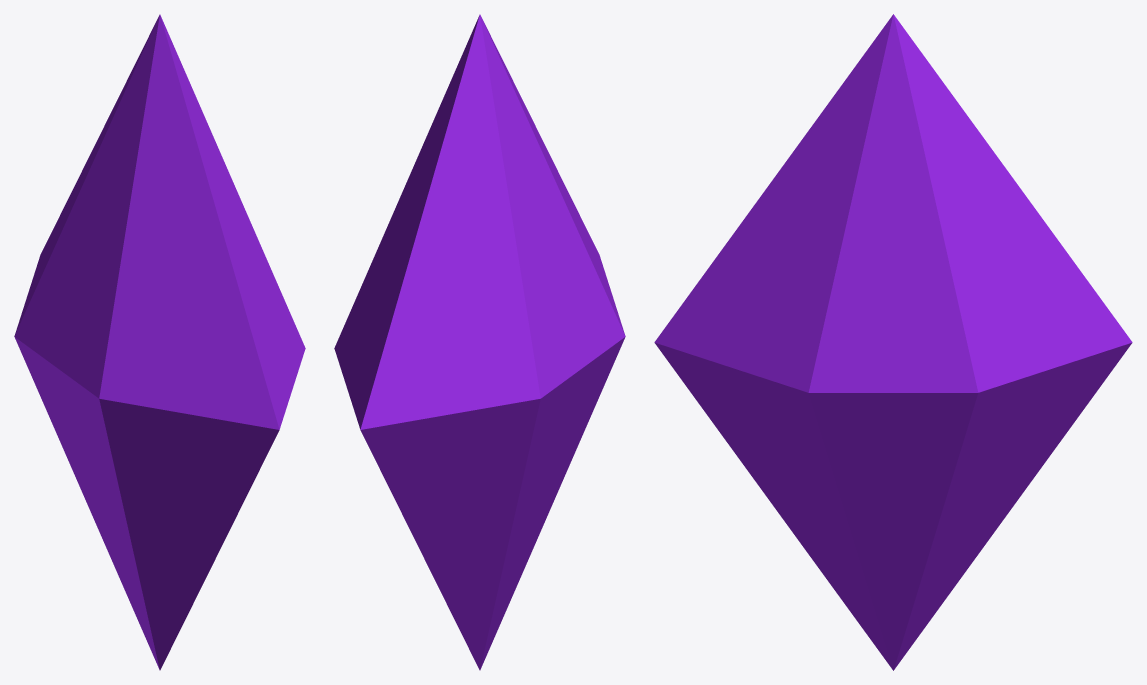
Rendered from Amethyst.gltf.
3 views of the same model, side by side, from view 1: azimuth 30°, elevation 25°; view 2: azimuth 150°, elevation 25°; view 3: azimuth 270°, elevation 25° (orthographic).
Visible parts, largest first — view 1: Amethyst; view 2: Amethyst; view 3: Amethyst.
Part boxes in pixels (x1,y1,x2,y2): Amethyst: (14,14,305,670); Amethyst: (334,14,625,670); Amethyst: (654,14,1132,670).
Size of the model in its own units: 1.1 by 3.33 by 2.2.
